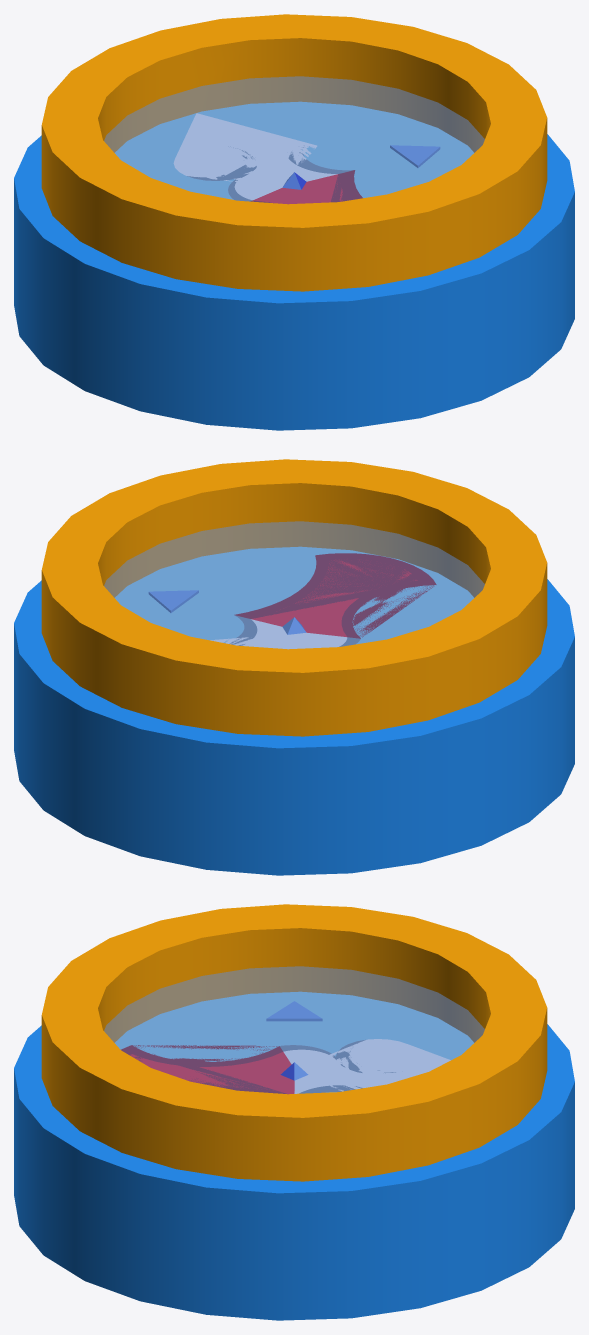
File: Compass.fbx
3 views of the same model, one above another, from view 1: azimuth 30°, elevation 25°; view 2: azimuth 150°, elevation 25°; view 3: azimuth 270°, elevation 25° (orthographic).
Visible parts, largest first — view 1: Model; view 2: Model; view 3: Model.
Boxes of the visible parts, <box> form: Model: <box>14,14,574,430</box>; Model: <box>14,459,574,875</box>; Model: <box>14,904,574,1320</box>.
Bounding box in the file's own units: 200 × 75 × 200.
